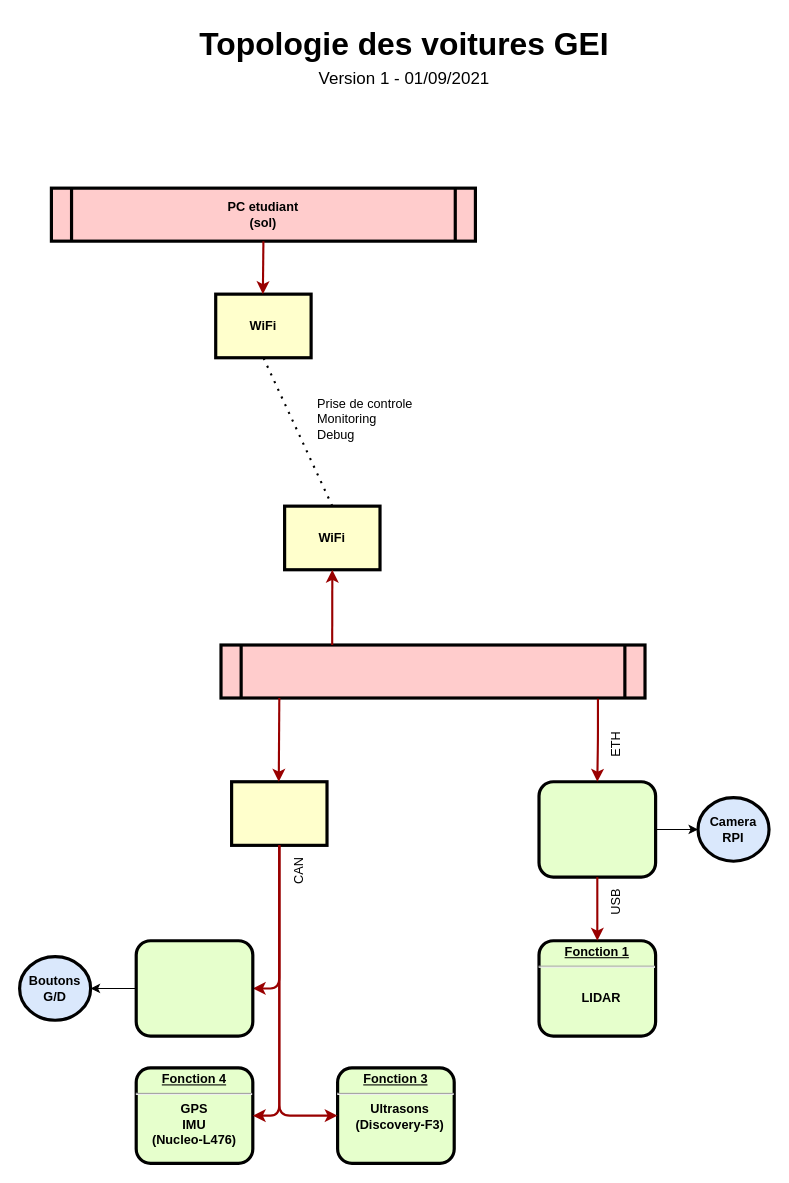
The diagram is 789 pixels wide and 1183 high, and some of its shapes have lost their labels. Here are the shapes that lost their labels. From the top down, the centre of each, then its label:
At (432,671): "Raspberry PI 4 (embarqué)".
At (278,813): "Adaptateur CAN (Hat)".
At (597,829): "Fonction 2 JETSON".
At (194,988): "Fonction 5 Moteur Direction (Nucleo-F103)".
